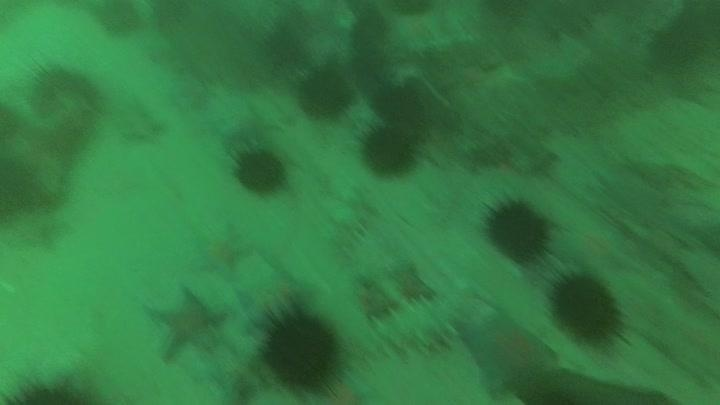echinus: (258, 303, 345, 393), (25, 61, 104, 142), (547, 271, 626, 346), (480, 195, 555, 265), (648, 6, 715, 73), (6, 369, 106, 405), (295, 64, 356, 121), (358, 121, 419, 177), (230, 144, 290, 198), (372, 82, 427, 127), (92, 1, 146, 39)
holothurian: (364, 293, 467, 359), (326, 188, 377, 262)
starfish: (455, 304, 559, 401), (143, 284, 228, 362), (199, 78, 293, 146), (235, 267, 313, 331), (559, 219, 632, 275), (193, 222, 251, 277), (317, 368, 377, 403)
